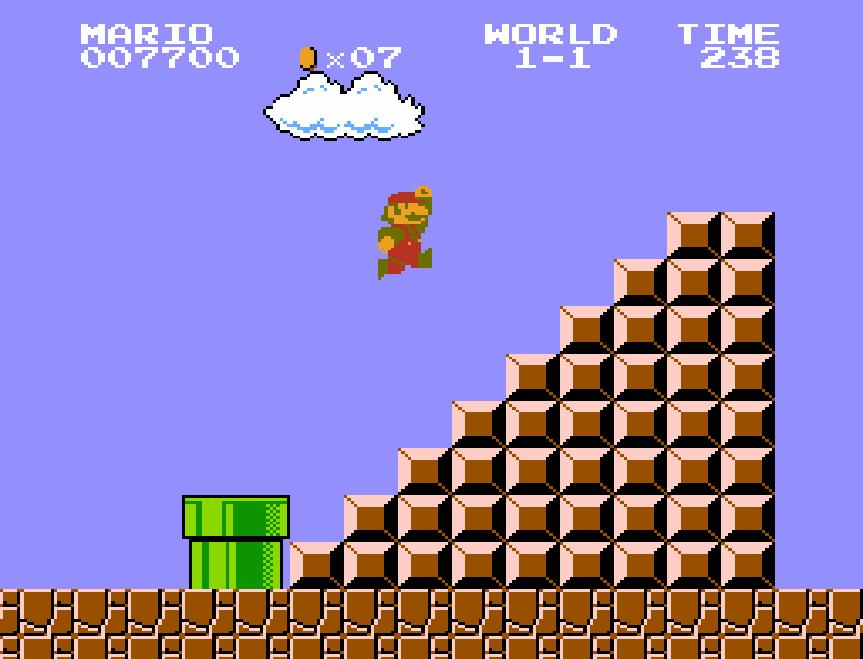big_mario: (376, 183, 434, 281)
